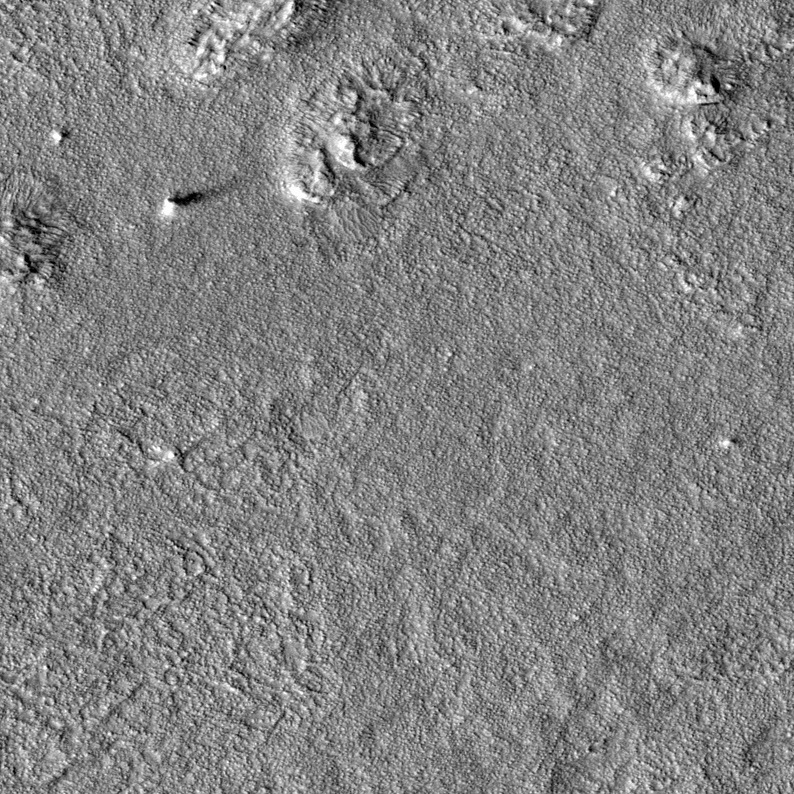dust_devil: (158, 177, 240, 220)
